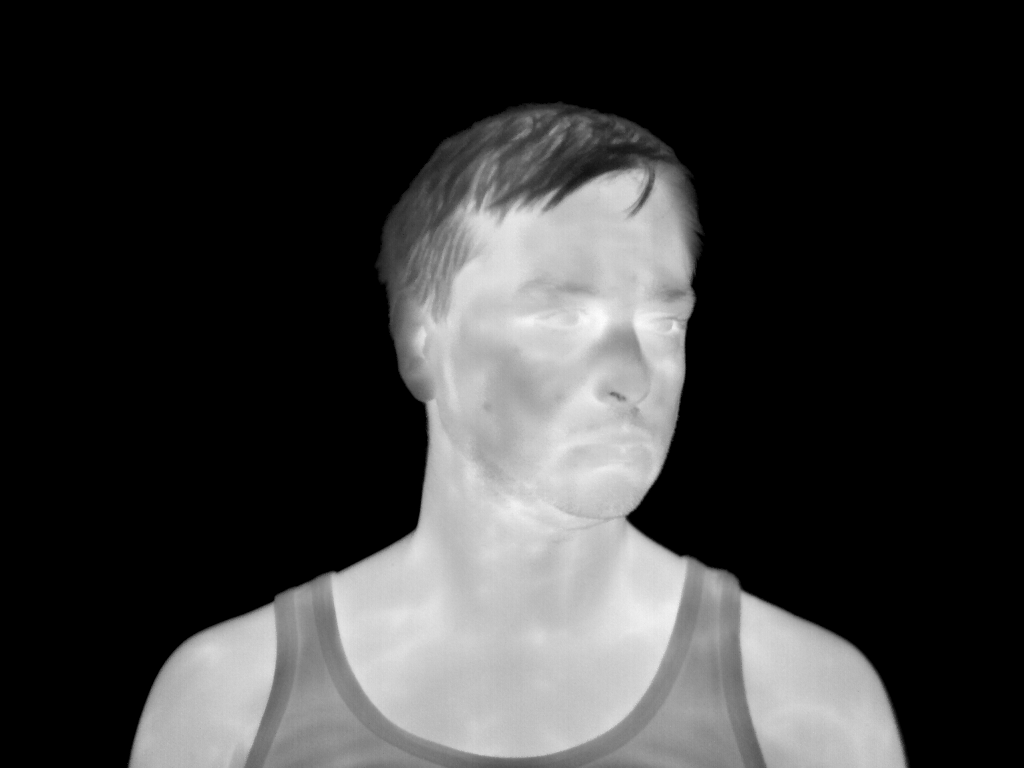face: (474, 204, 695, 518)
